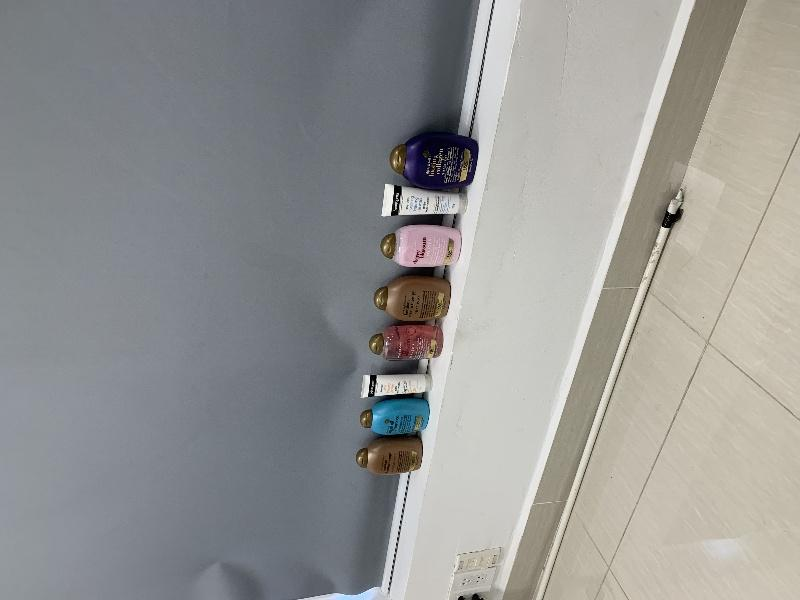AcneFoamingCleanser: (360, 373, 433, 399)
ArganOilOfMorocco_Conditioner: (360, 398, 430, 435)
BiotinCollagen_Shampoo: (390, 132, 479, 189)
BrazilianKeratinTherapy_Shampoo: (373, 275, 451, 321)
BrazilianKerationTherapy_Conditioner: (356, 436, 423, 475)
CherryBlossom_Conditioner: (380, 225, 462, 267)
CherryBlossom_Shampoo: (369, 324, 443, 361)
HydratingFoamingCleanser: (382, 184, 468, 217)
